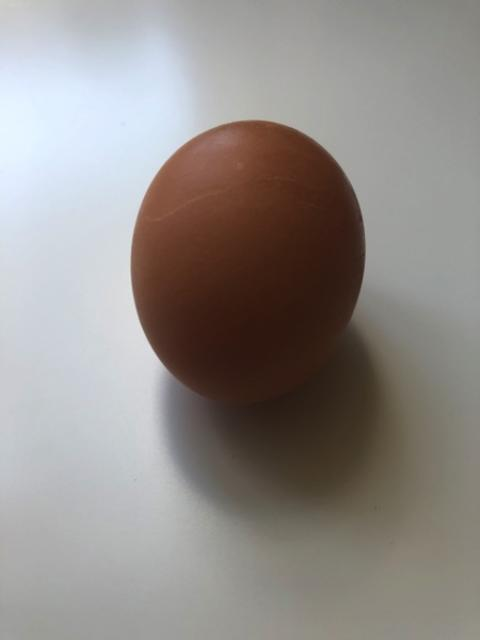Roto: (129, 117, 366, 405)
